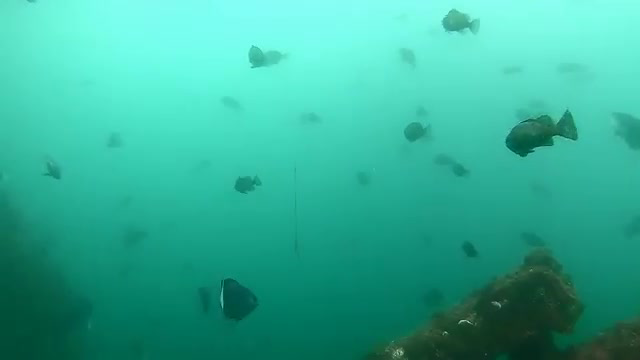smallfish: (494, 107, 589, 166), (434, 7, 485, 39), (392, 122, 439, 149)
